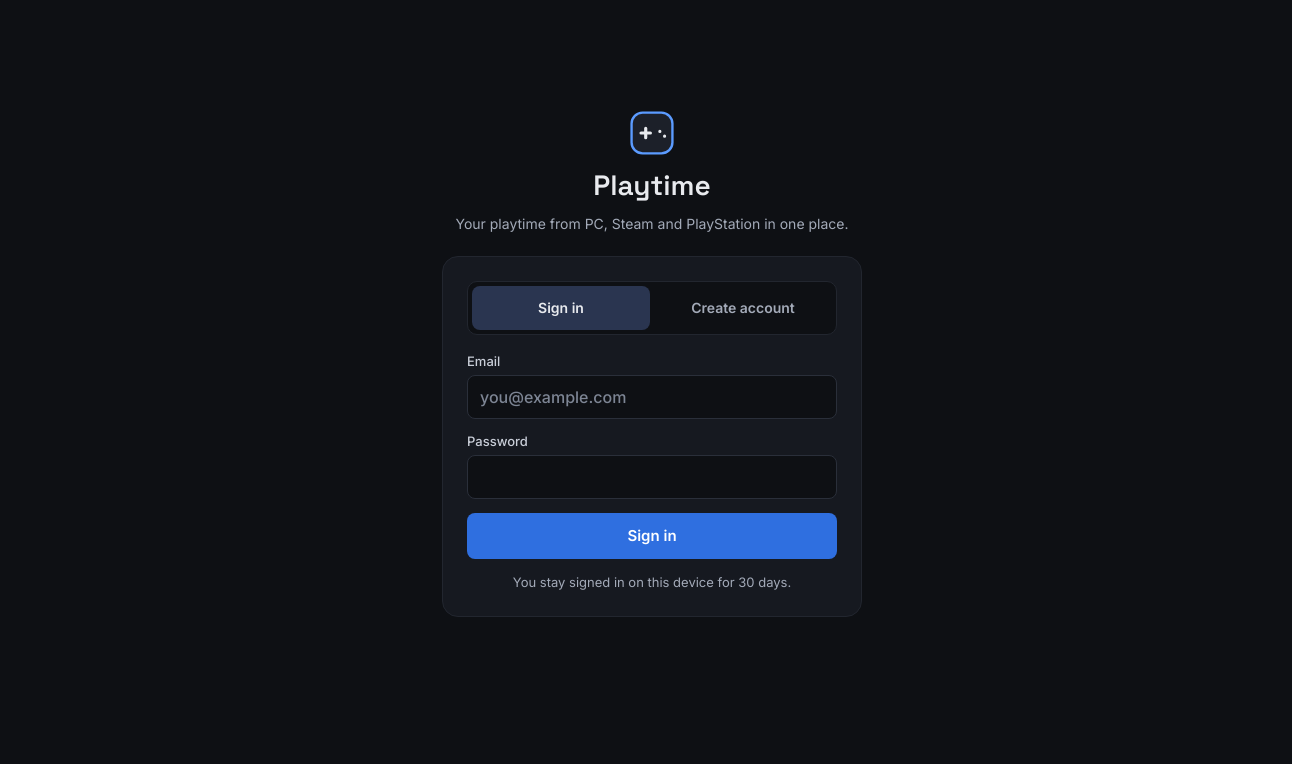
Scenario: LoginPage › ignores off-site next //evil.example
The image size is (1292, 764).
Step 1. Type "a@b.co" into the field labelled "Email" → (652, 397), box [467, 375, 837, 419]
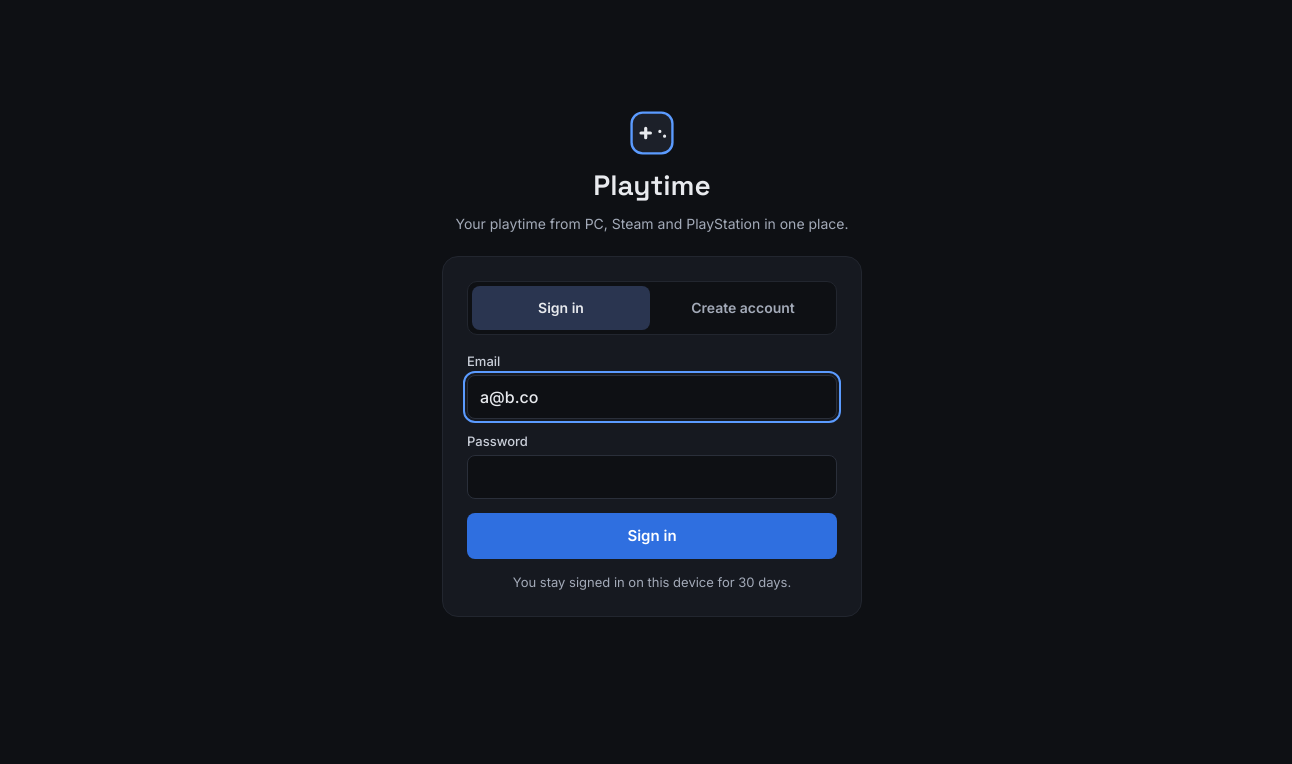
Step 2. Type "password1" into the password field labelled "Password" → (652, 477), box [467, 455, 837, 499]
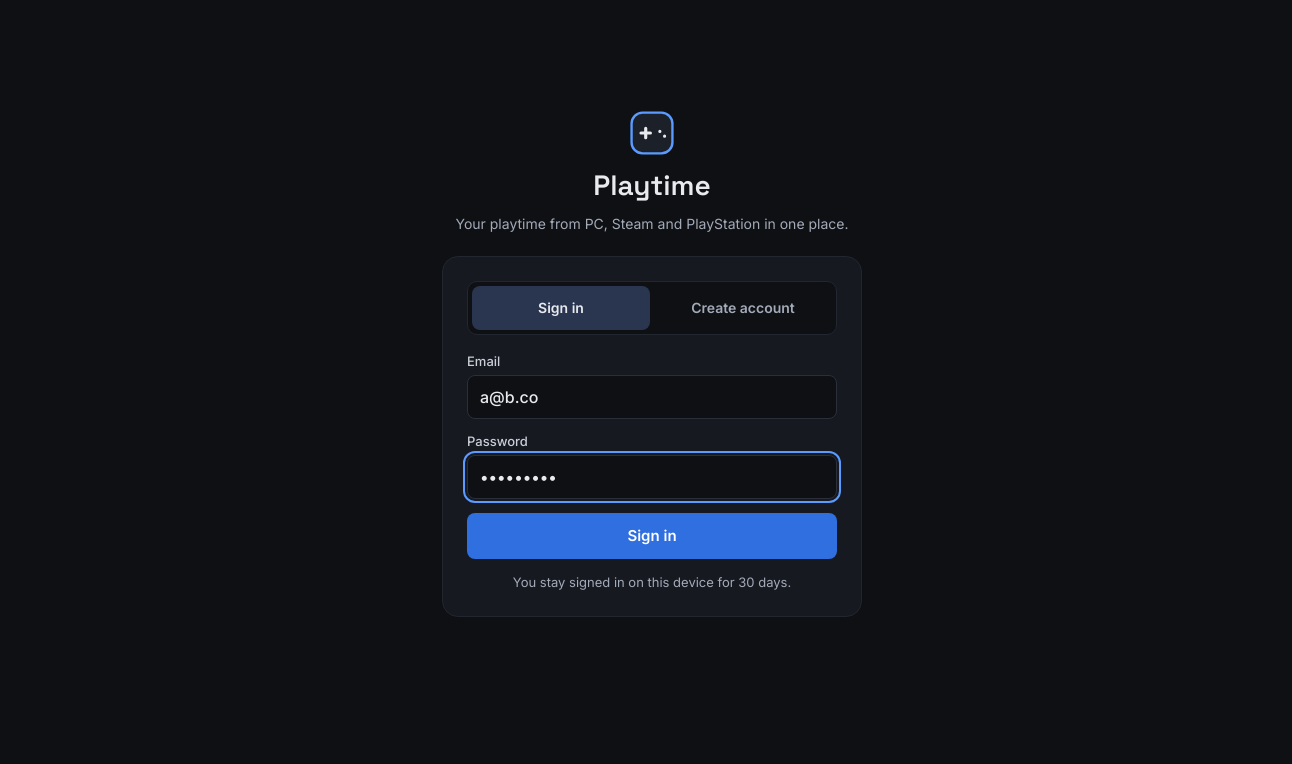
Step 3. Click the button "Sign in" below "Password" → (652, 536), box [467, 513, 837, 559]
(page scrolled)
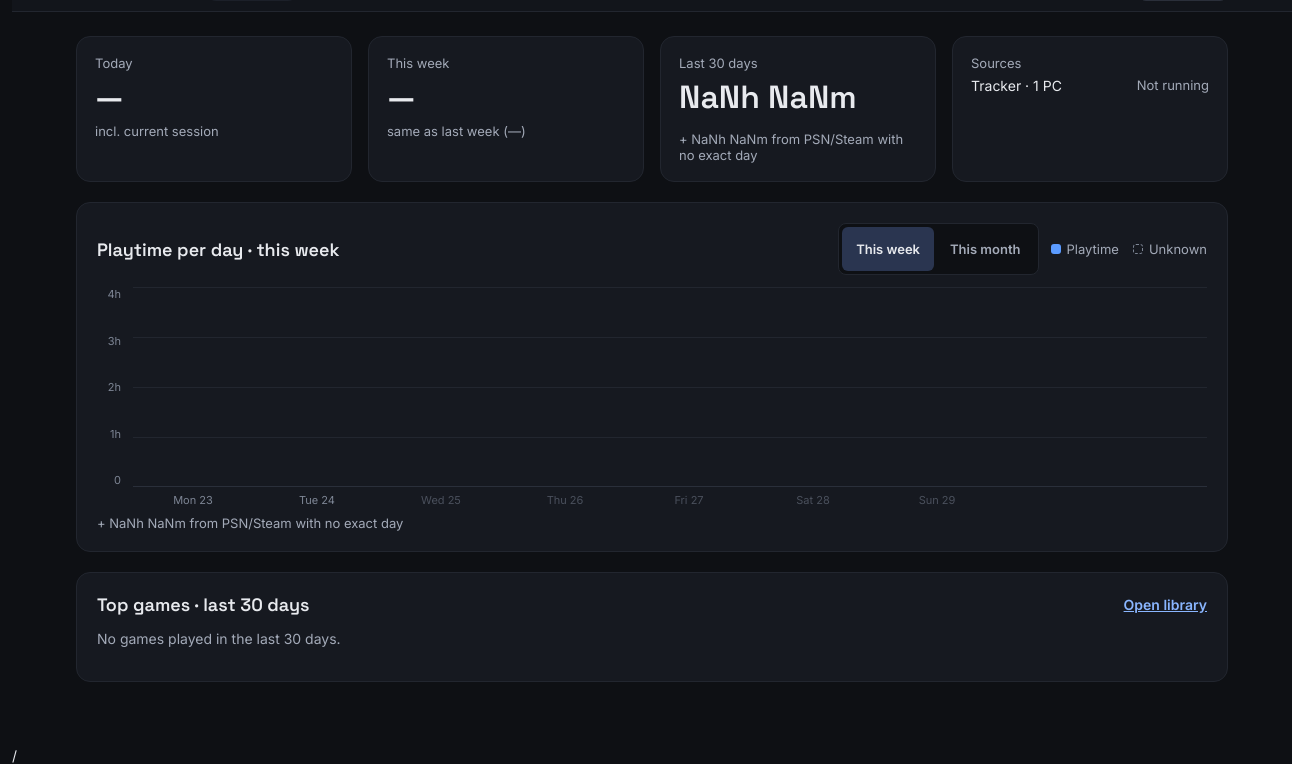
expect the text "Last 30 days" is shown: met, box [679, 55, 758, 71]
expect the text with test id "path" reads "/": met, box [12, 747, 17, 763]
